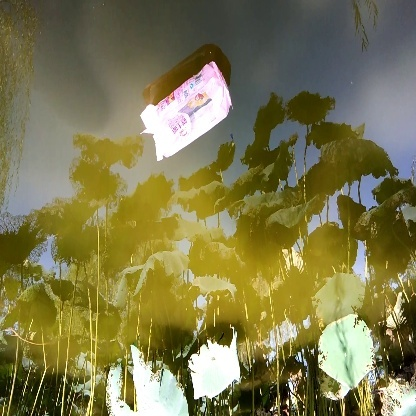plastic-bag: (142, 59, 234, 167)
